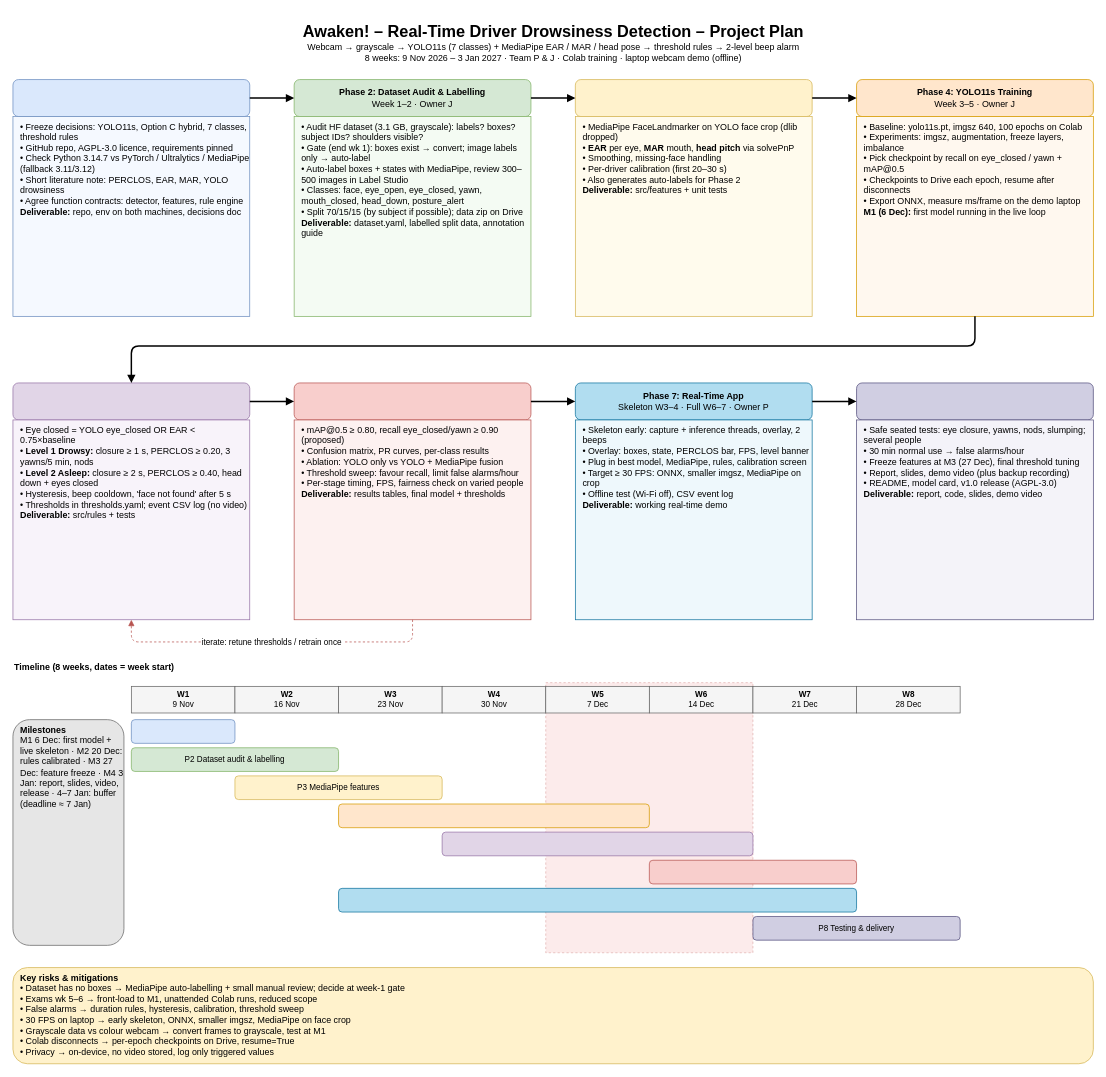
This 1106x1077 diagram has some shape labels left out. Here are the shapes that lost their labels. From the top down, the centre of each, then its label:
At pixel 131 98: "Phase 1: Scoping, Setup & Decisions Week 1 · Owner P".
At pixel 693 98: "Phase 3: MediaPipe Feature Module Week 2–3 · Owner P".
At pixel 131 401: "Phase 5: Fusion & Temporal Rules Week 4–6 · Owner J".
At pixel 412 401: "Phase 6: Evaluation Week 6–7 · Owner P".
At pixel 974 401: "Phase 8: Testing & Delivery Week 7–8 · Owners P + J".
At pixel 183 731: "P1 Scoping & setup".
At pixel 493 815: "P4 YOLO11s training (M1: 6 Dec)".
At pixel 597 843: "P5 Fusion & rules".
At pixel 753 872: "P6 Evaluation".
At pixel 597 900: "P7 Real-time app (skeleton W3–4, full W6–7)".
